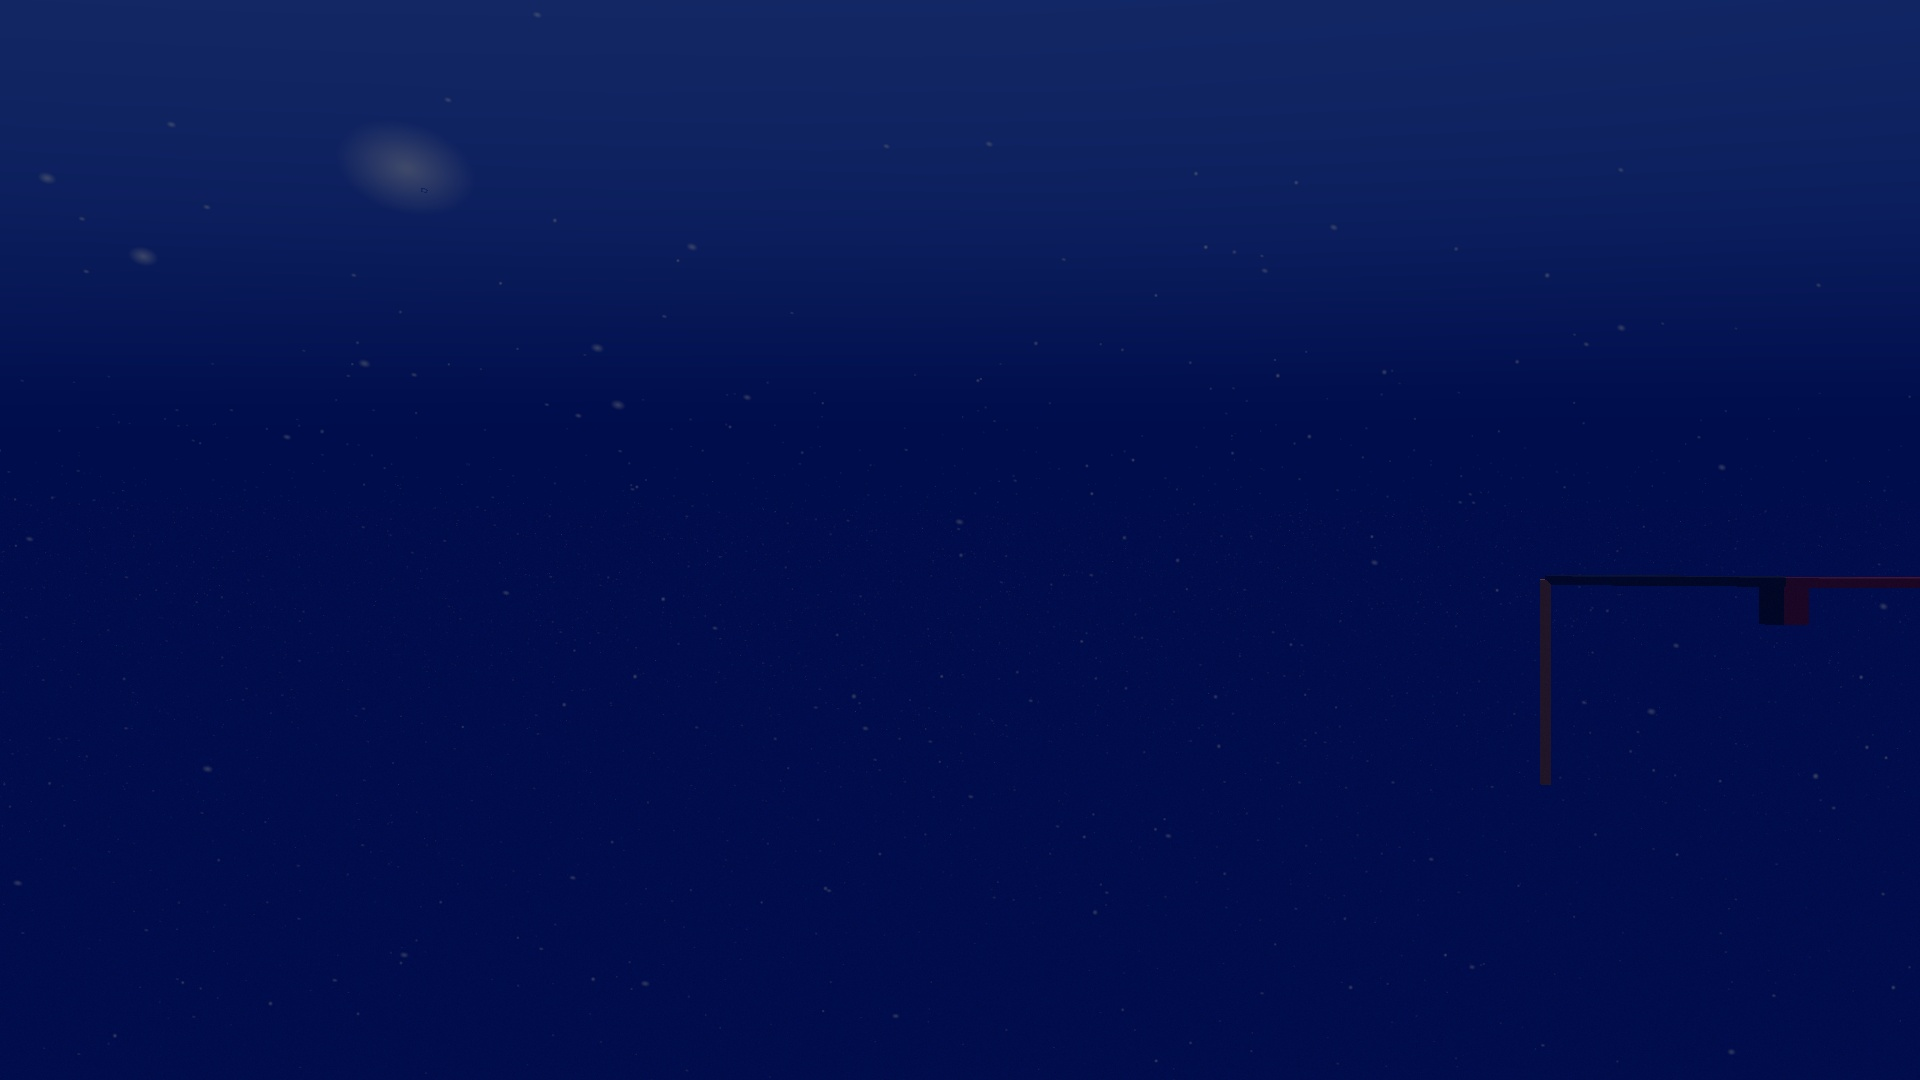Gate: (1534, 570, 1920, 790)
